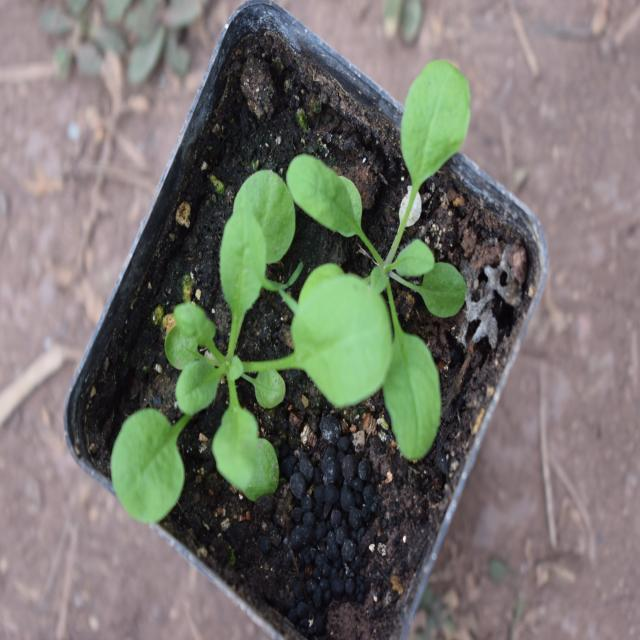Shepherd_Purse: (300, 55, 496, 424), (128, 184, 332, 523)
